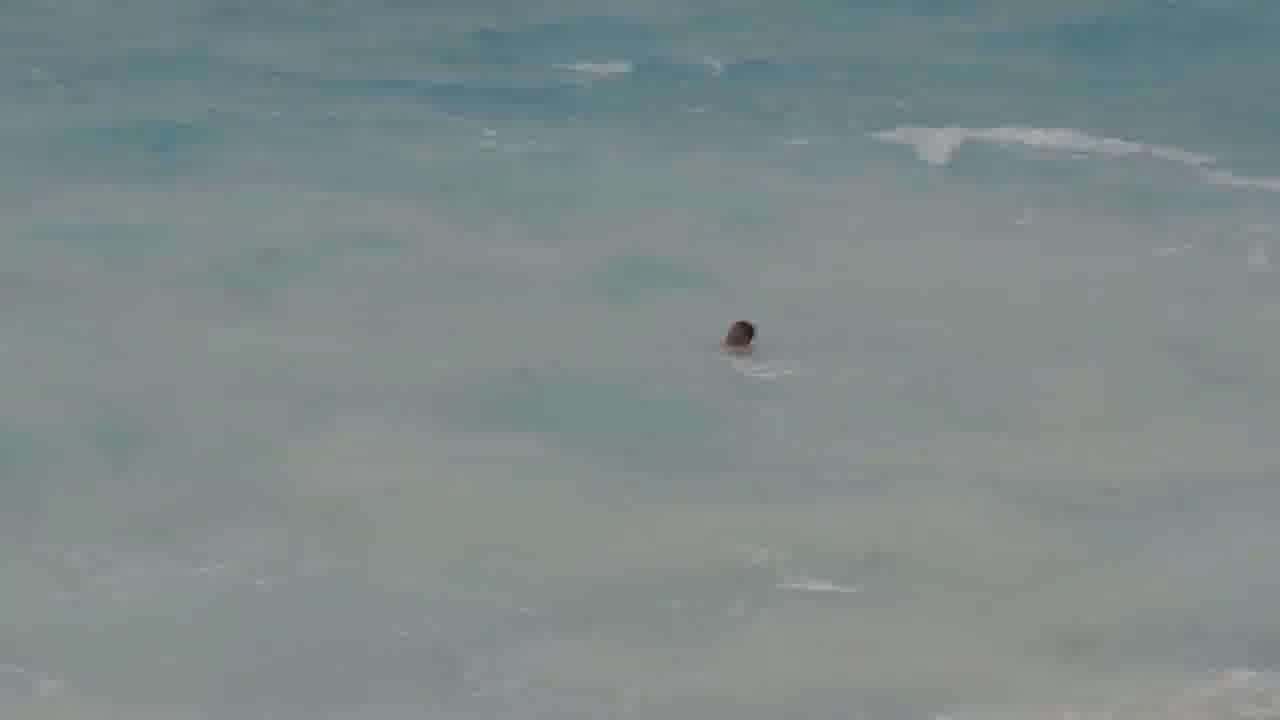human: (715, 316, 766, 354)
